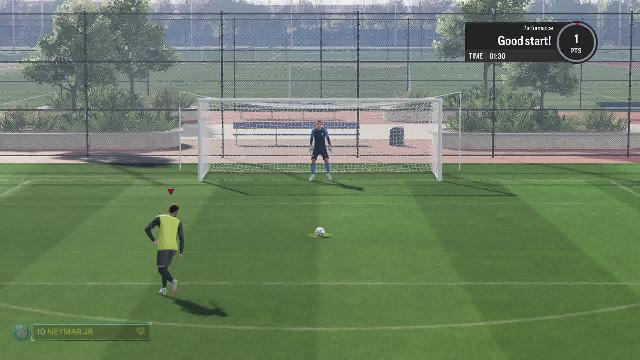football: (314, 226, 326, 236)
goal-bottom-left: (204, 143, 278, 179)
goal-bottom-right: (360, 144, 438, 180)
goal-middle-down: (279, 144, 359, 180)
goal-middle-up: (280, 103, 362, 143)
goal-top-left: (206, 103, 282, 143)
goal-top-right: (358, 102, 434, 142)
goalkeeper: (306, 119, 338, 182)
player: (143, 202, 190, 300)
